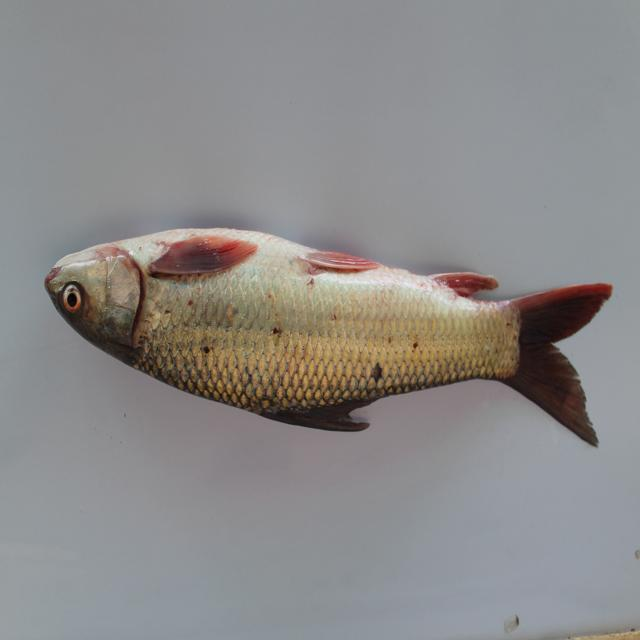Mori: (38, 217, 609, 453)
